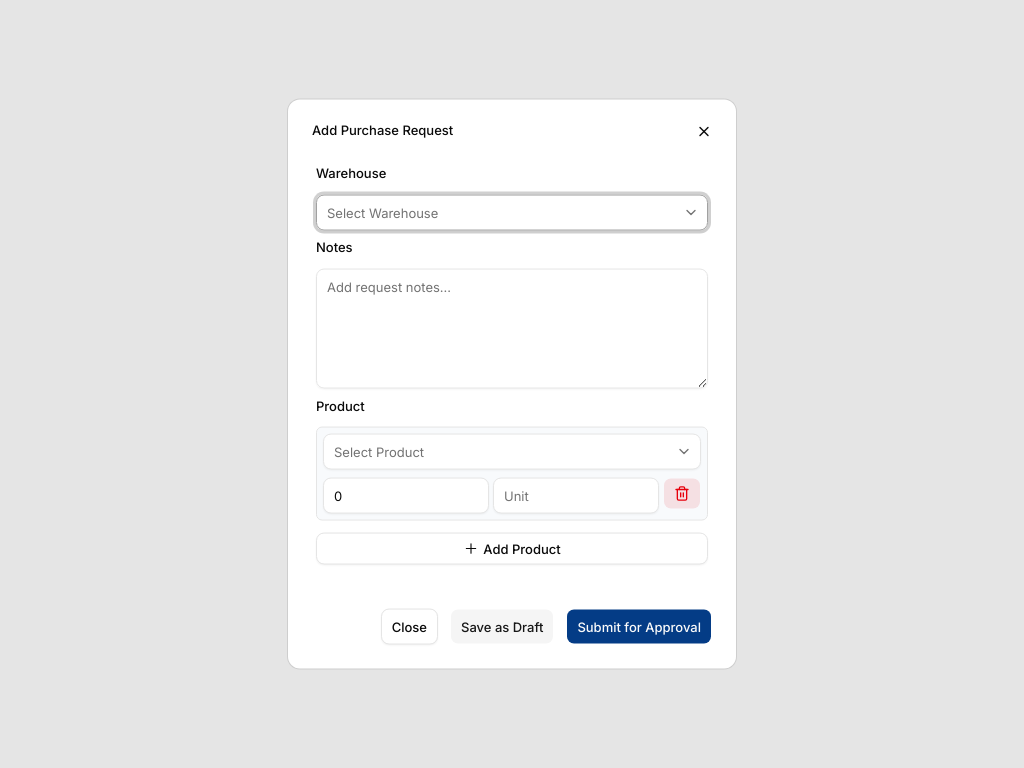
Scenario: DialogFormPurchaseRequest - create › submit dengan field kosong: handleSubmit tidak dipanggil dan error tampil
Click the button "Submit for Approval".
click(639, 626)  # box [566,608,712,644]
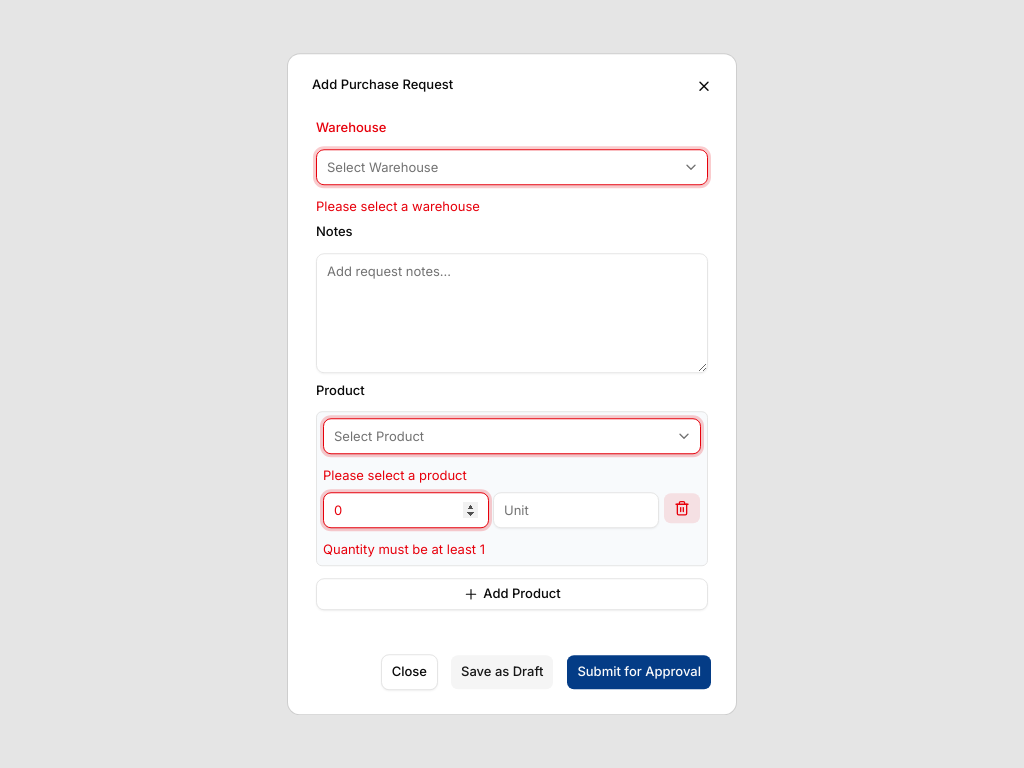
Expected: the text "Please select a warehouse" is shown, [316,198,480,214]
Expected: the text "Please select a product" is shown, [323,467,467,483]
Expected: the text "Quantity must be at least 1" is shown, [323,541,489,559]
